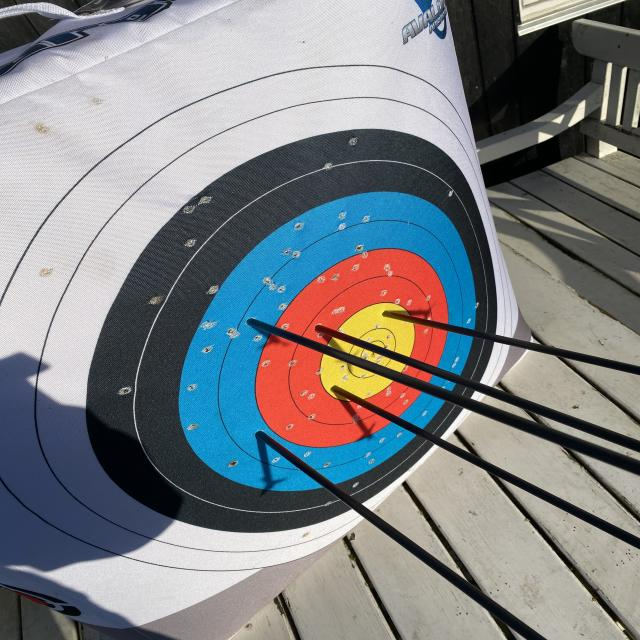Arrow_Blue: (233, 299, 273, 340), (251, 423, 279, 451)
Arrow_Red: (300, 314, 336, 340)
Arrow_Yellow: (318, 373, 356, 401), (374, 300, 406, 330)
